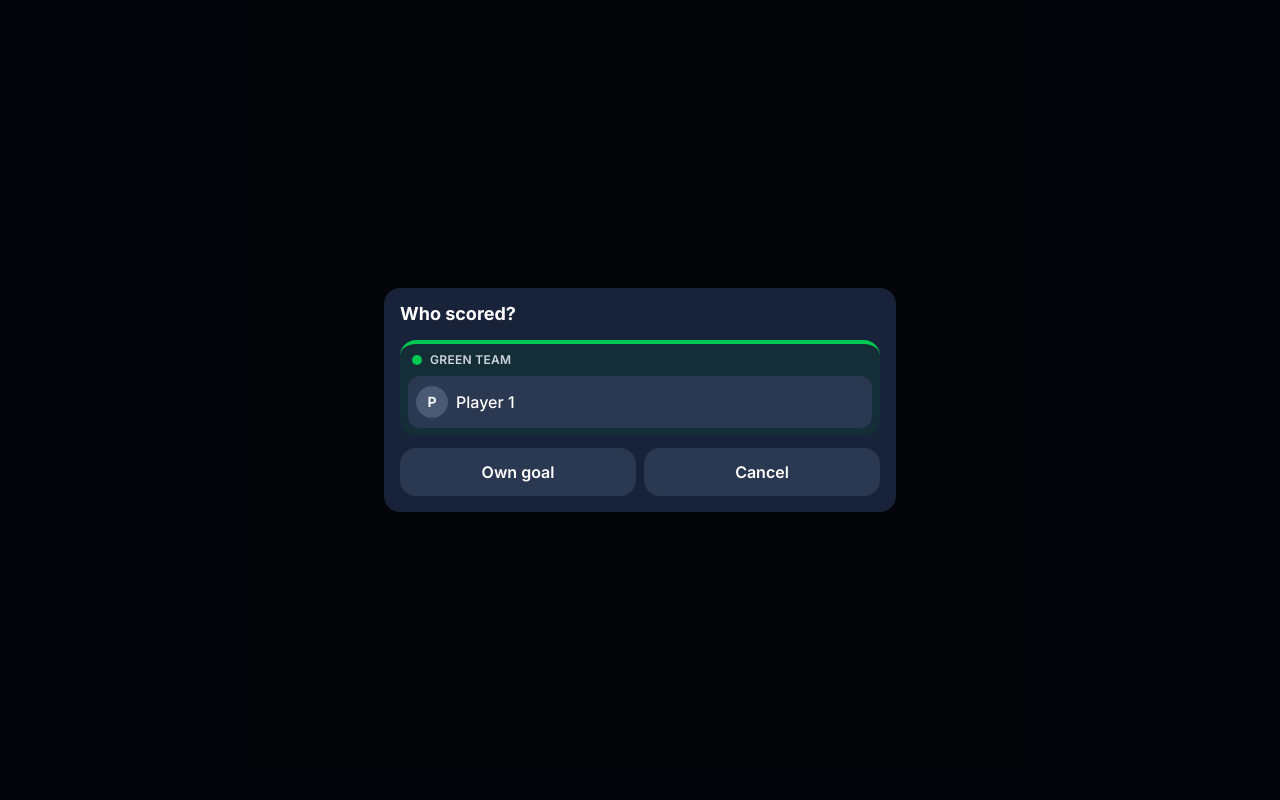
Test: lists only the given teams for an own goal, and can go back to a normal goal
Later steps or results of the test are not shown.
Click the button "Own goal".
click(518, 472)  # box [400, 448, 636, 496]
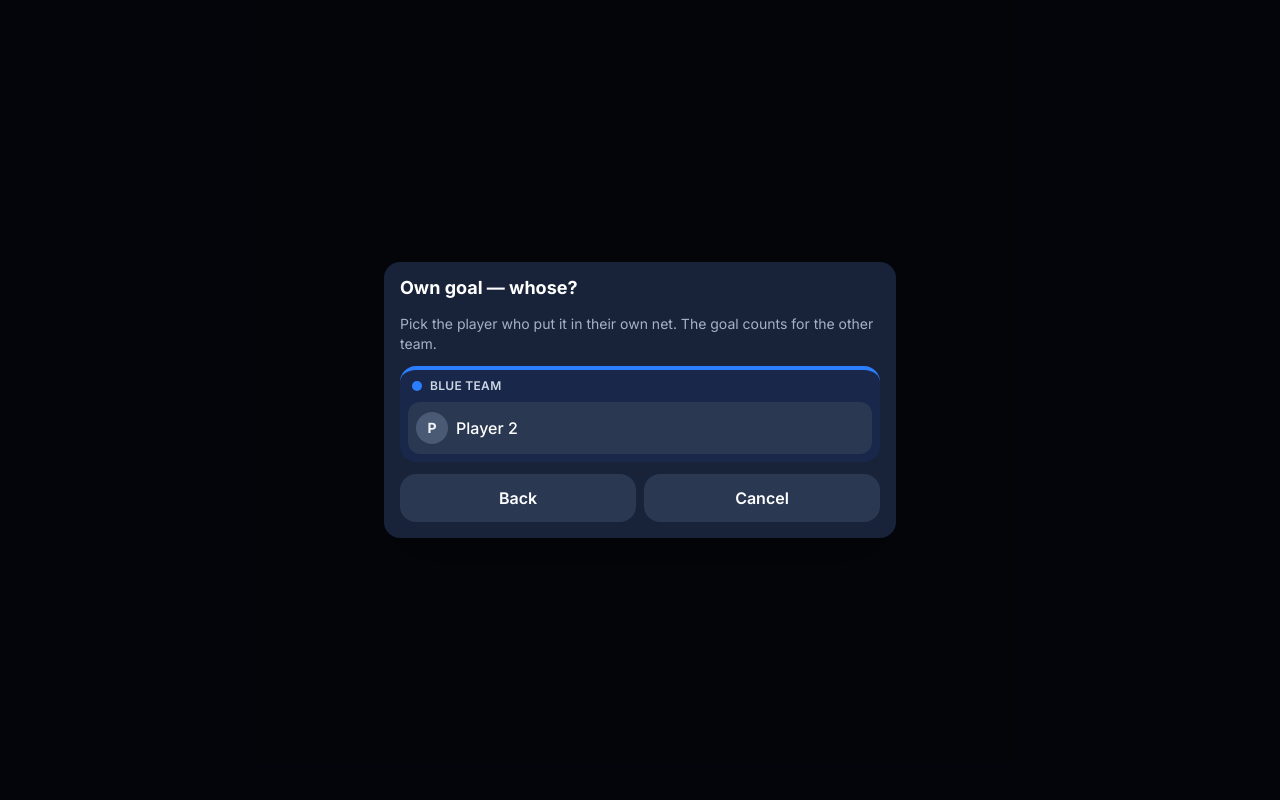
Result: the button "Player 1" is gone
